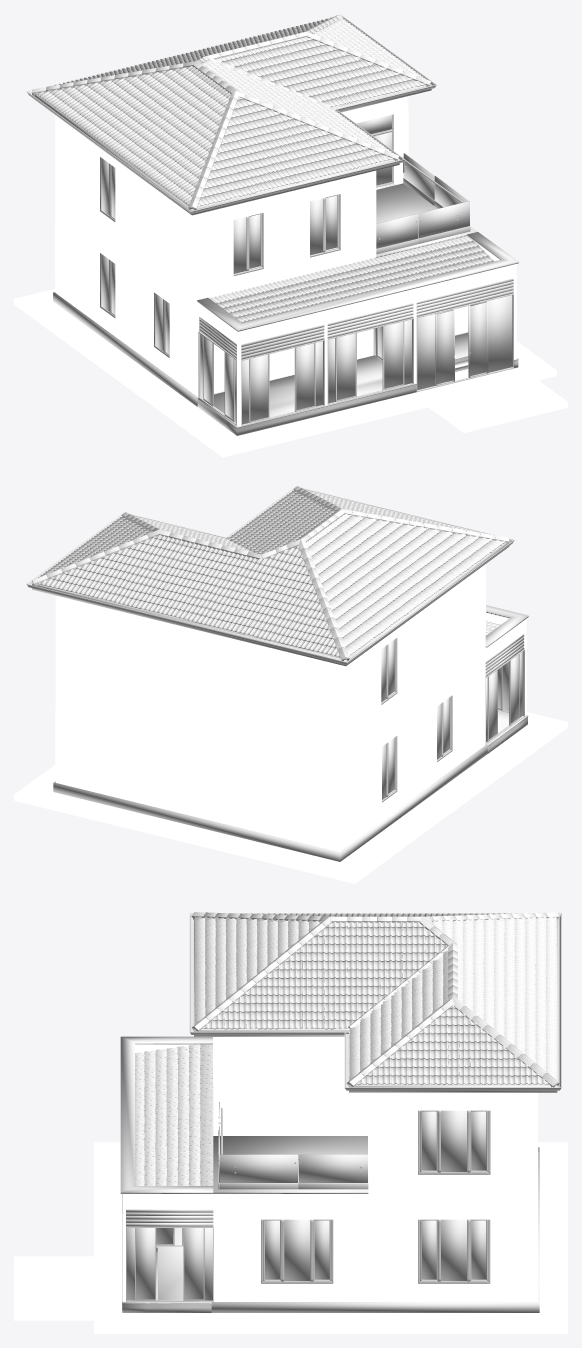
File: modern_minimalist_two_storey_house_compressed.glb
The picture shows the model from 3 angles, top to bottom: view 1: azimuth 30°, elevation 25°; view 2: azimuth 150°, elevation 25°; view 3: azimuth 270°, elevation 25°; orthographic projection. The views are drawn at different scales.
Visible parts, largest first — view 1: roof_32, basement_3, wall.001_37, wall.003_39, wall_36, roof.002_34, glass.012_23, glass.013_24, wall.002_38, roof.001_33, profile.002_31, wall.004_40 (+19 smaller); view 2: roof_32, wall.001_37, wall_36, basement_3, wall.002_38, wall.003_39, roof.001_33, base_0, gutter_27, gutter.001_28, glass.012_23, windoor_41 (+7 smaller); view 3: roof_32, basement_3, wall.001_37, wall_36, roof.002_34, wall.002_38, roof.001_33, glass.011_22, gutter_27, base_0, floor.001_10, profile.001_30 (+16 smaller).
Part boxes in pixels (x1=…): roof_32: x1=35, y1=17, x2=425, y2=206; basement_3: x1=14, y1=289, x2=567, y2=457; wall.001_37: x1=55, y1=96, x2=408, y2=300; wall.003_39: x1=115, y1=110, x2=408, y2=286; wall_36: x1=55, y1=197, x2=468, y2=396; roof.002_34: x1=209, y1=235, x2=494, y2=322; glass.012_23: x1=204, y1=321, x2=403, y2=421; glass.013_24: x1=200, y1=295, x2=512, y2=424; wall.002_38: x1=55, y1=220, x2=373, y2=358; roof.001_33: x1=32, y1=14, x2=431, y2=210; profile.002_31: x1=199, y1=278, x2=513, y2=359; wall.004_40: x1=198, y1=245, x2=516, y2=345; roof_32: x1=38, y1=489, x2=505, y2=657; wall.001_37: x1=55, y1=564, x2=485, y2=753; wall_36: x1=55, y1=647, x2=485, y2=851; basement_3: x1=14, y1=712, x2=567, y2=883; wall.002_38: x1=55, y1=707, x2=436, y2=836; wall.003_39: x1=397, y1=573, x2=485, y2=694; roof.001_33: x1=32, y1=486, x2=509, y2=660; base_0: x1=53, y1=745, x2=487, y2=861; gutter_27: x1=26, y1=487, x2=514, y2=664; gutter.001_28: x1=32, y1=542, x2=509, y2=666; glass.012_23: x1=489, y1=654, x2=518, y2=739; windoor_41: x1=485, y1=649, x2=524, y2=744; roof_32: x1=194, y1=913, x2=556, y2=1084; basement_3: x1=14, y1=1142, x2=567, y2=1333; wall.001_37: x1=213, y1=1037, x2=537, y2=1192; wall_36: x1=213, y1=1193, x2=537, y2=1301; roof.002_34: x1=135, y1=1044, x2=213, y2=1185; wall.002_38: x1=333, y1=1152, x2=538, y2=1285; roof.001_33: x1=191, y1=912, x2=559, y2=1087; glass.011_22: x1=219, y1=1102, x2=367, y2=1182; gutter_27: x1=189, y1=913, x2=561, y2=1090; base_0: x1=211, y1=1147, x2=539, y2=1312; floor.001_10: x1=213, y1=1136, x2=368, y2=1193; profile.001_30: x1=120, y1=1036, x2=213, y2=1193.
Bounding box in the file's own units: 12 × 9 × 15.2.
7 materials, 3 textured.
